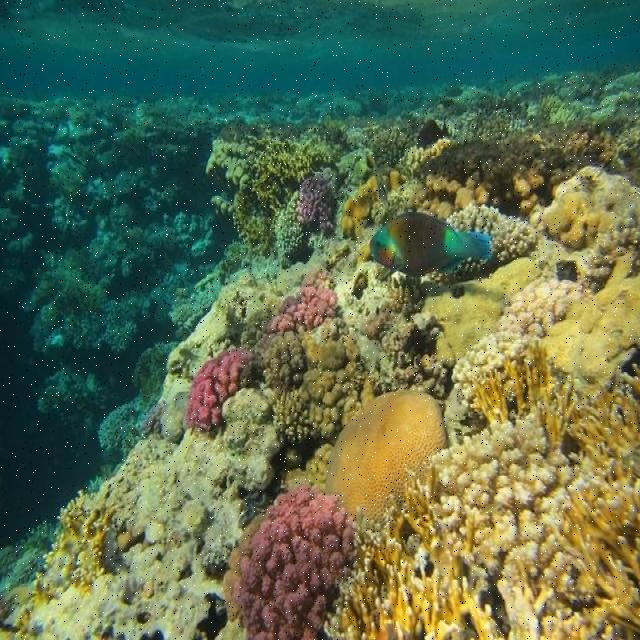fish: (370, 211, 496, 275)
reefs: (206, 97, 639, 258), (467, 345, 639, 639), (436, 416, 591, 639), (188, 265, 374, 439), (329, 468, 508, 639), (224, 483, 358, 639), (325, 390, 447, 520), (451, 275, 589, 378), (542, 253, 639, 395)
